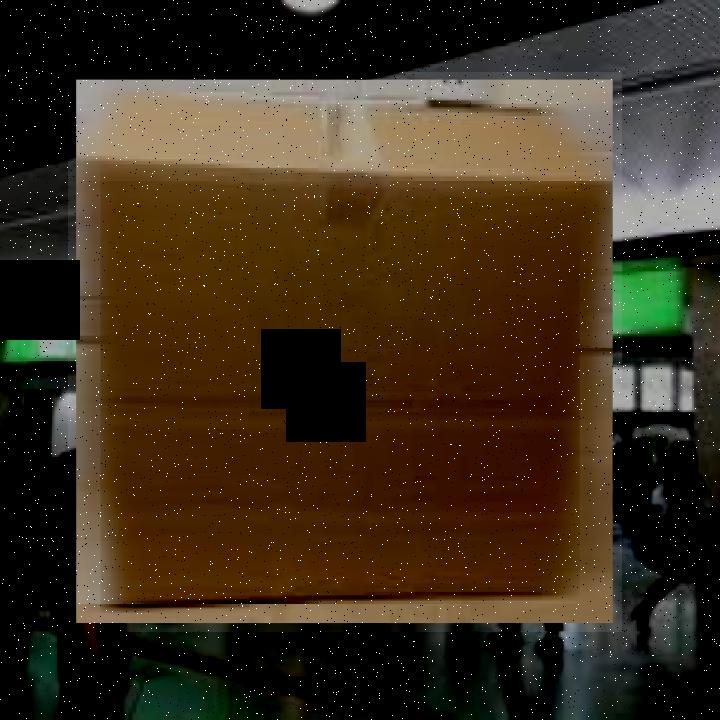box: (68, 72, 622, 632)
